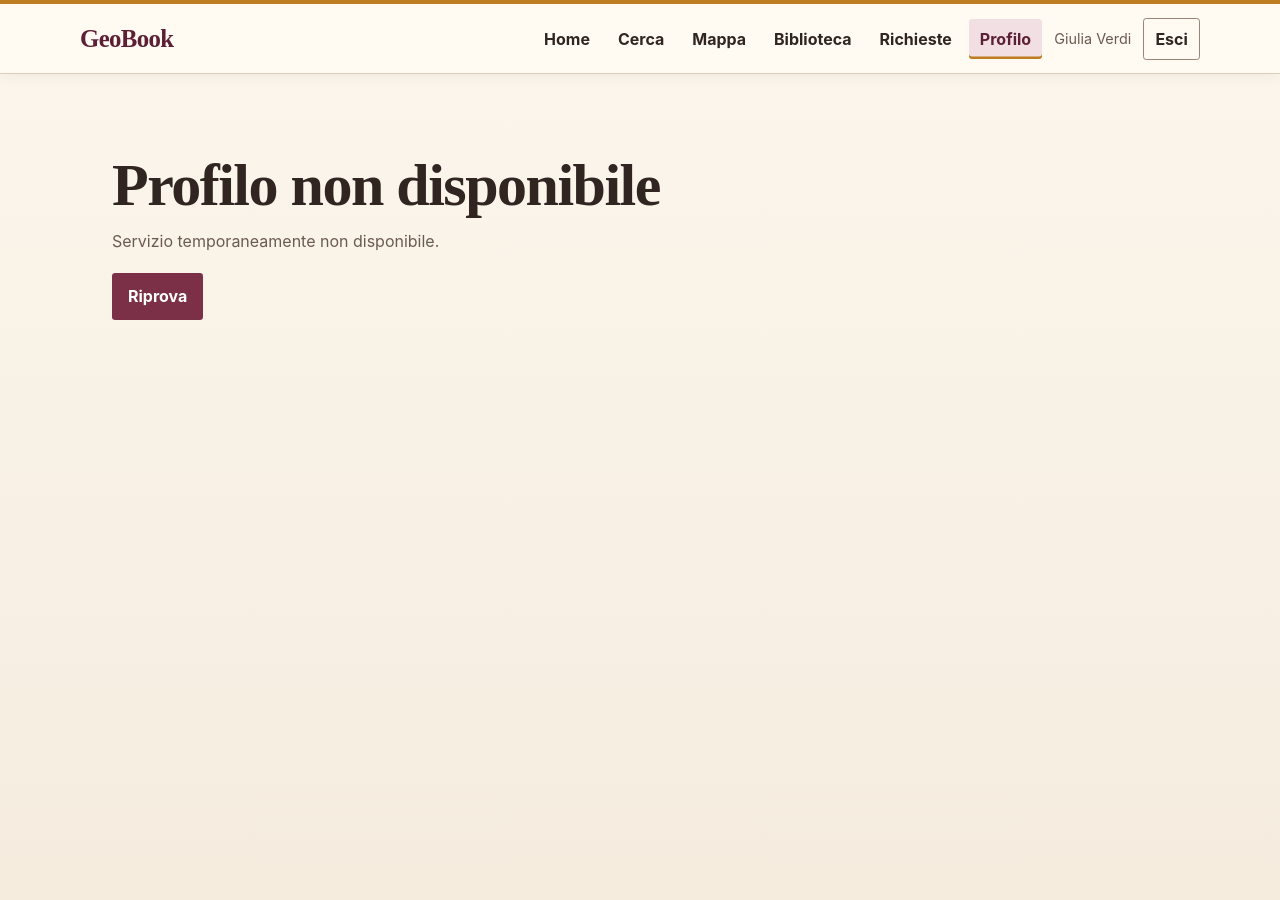
it: profile page › shows a recoverable loading error
The image size is (1280, 900).
Check: the heading "Profilo non disponibile" is shown, box [112,152,660,218]
Check: the message reads "Servizio temporaneamente non disponibile.", box [112,231,439,251]
Click the button "Riprova" at coordinates (158, 296), box [112,273,203,320]
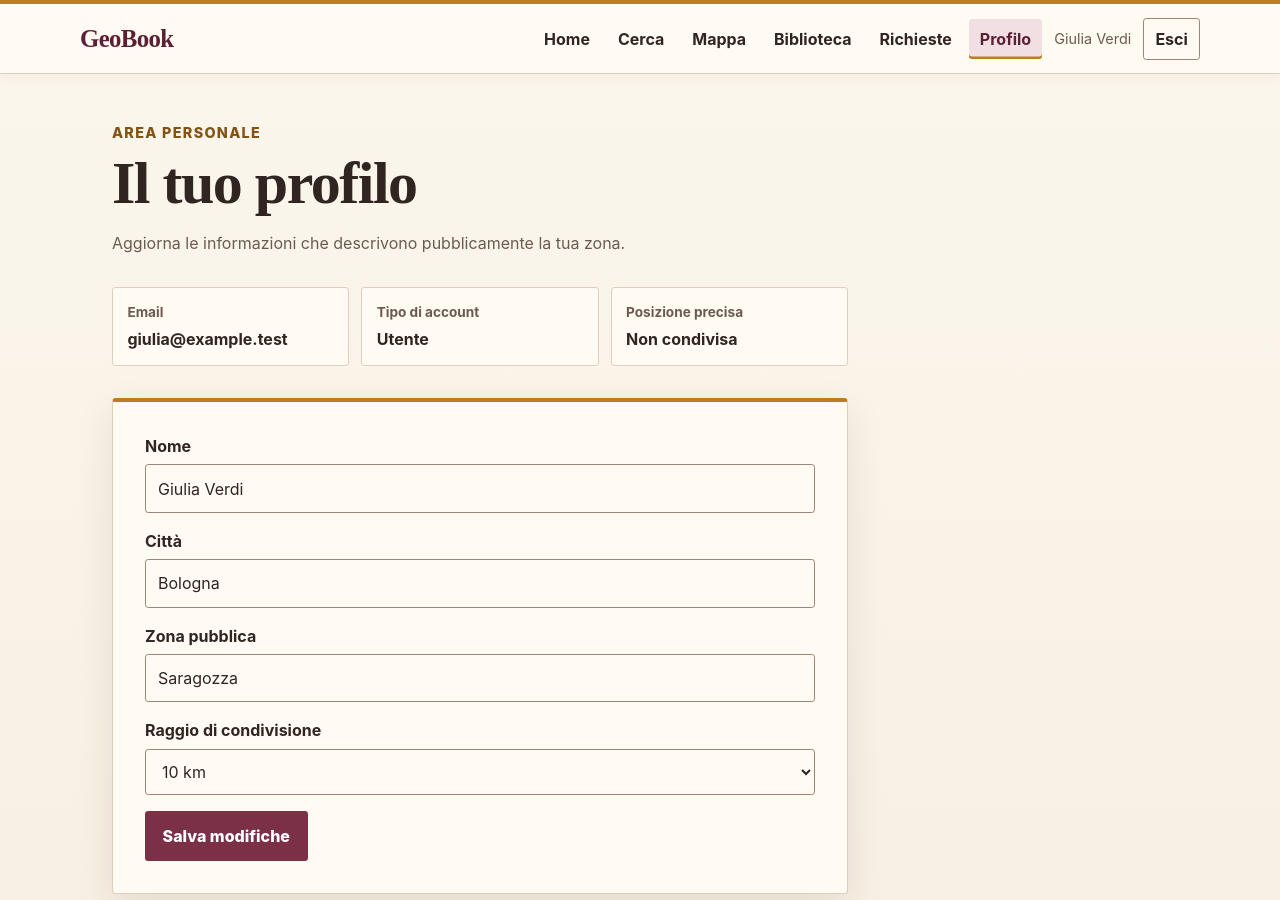
Check: the field showing "Giulia Verdi" is shown, box [145,464,815,513]
